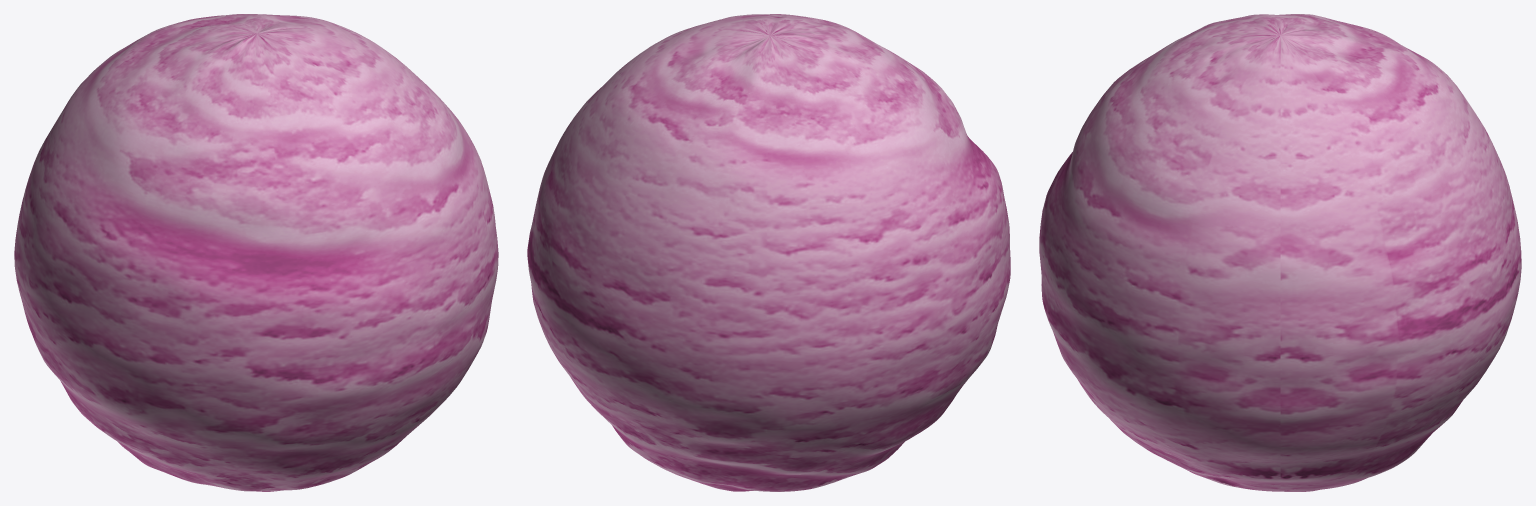
The model's file is iceball.fbx.
The picture shows the model from 3 angles, left to right: view 1: azimuth 30°, elevation 25°; view 2: azimuth 150°, elevation 25°; view 3: azimuth 270°, elevation 25°; orthographic projection.
Visible parts, largest first — view 1: IceBall; view 2: IceBall; view 3: IceBall.
Boxes of the visible parts, x1=… form: IceBall: x1=14, y1=14, x2=498, y2=491; IceBall: x1=527, y1=14, x2=1010, y2=491; IceBall: x1=1039, y1=14, x2=1521, y2=491.
Size of the model in its own units: 203 by 204 by 204.
1 material, 1 textured.
